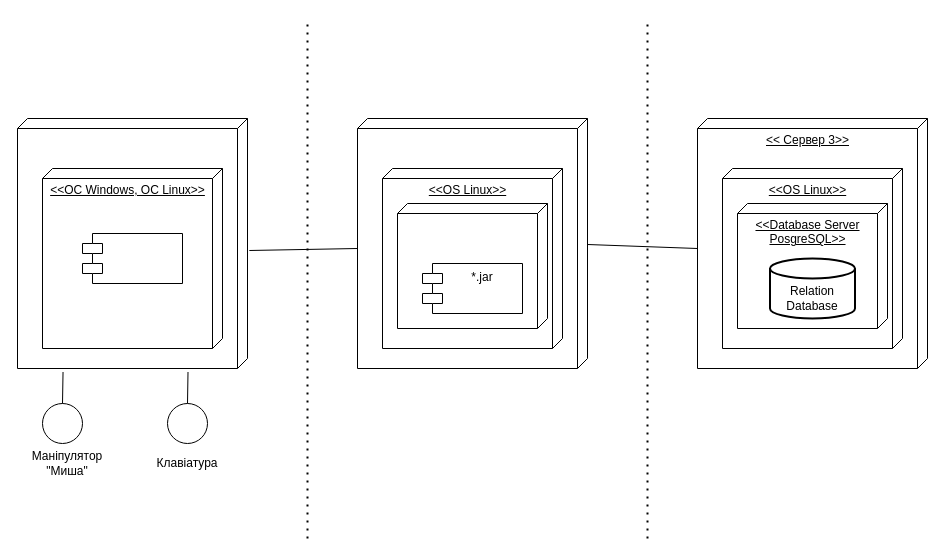
The diagram is 945 pixels wide and 557 high, and some of its shapes have lost their labels. The shapes that lost their labels are listed below. From the top down, each one's box as (x1, y1, x2, y2) in pixels, then its label:
(16, 118, 248, 368): <<Настільний комп'ютер>>
(82, 232, 182, 284): *.js (Angular)
(356, 118, 588, 368): <<Сервер 1>>
(396, 202, 548, 328): <<Application Server Apache Tomcat>>
